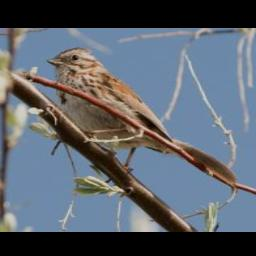Sparrow: (46, 47, 239, 187)
